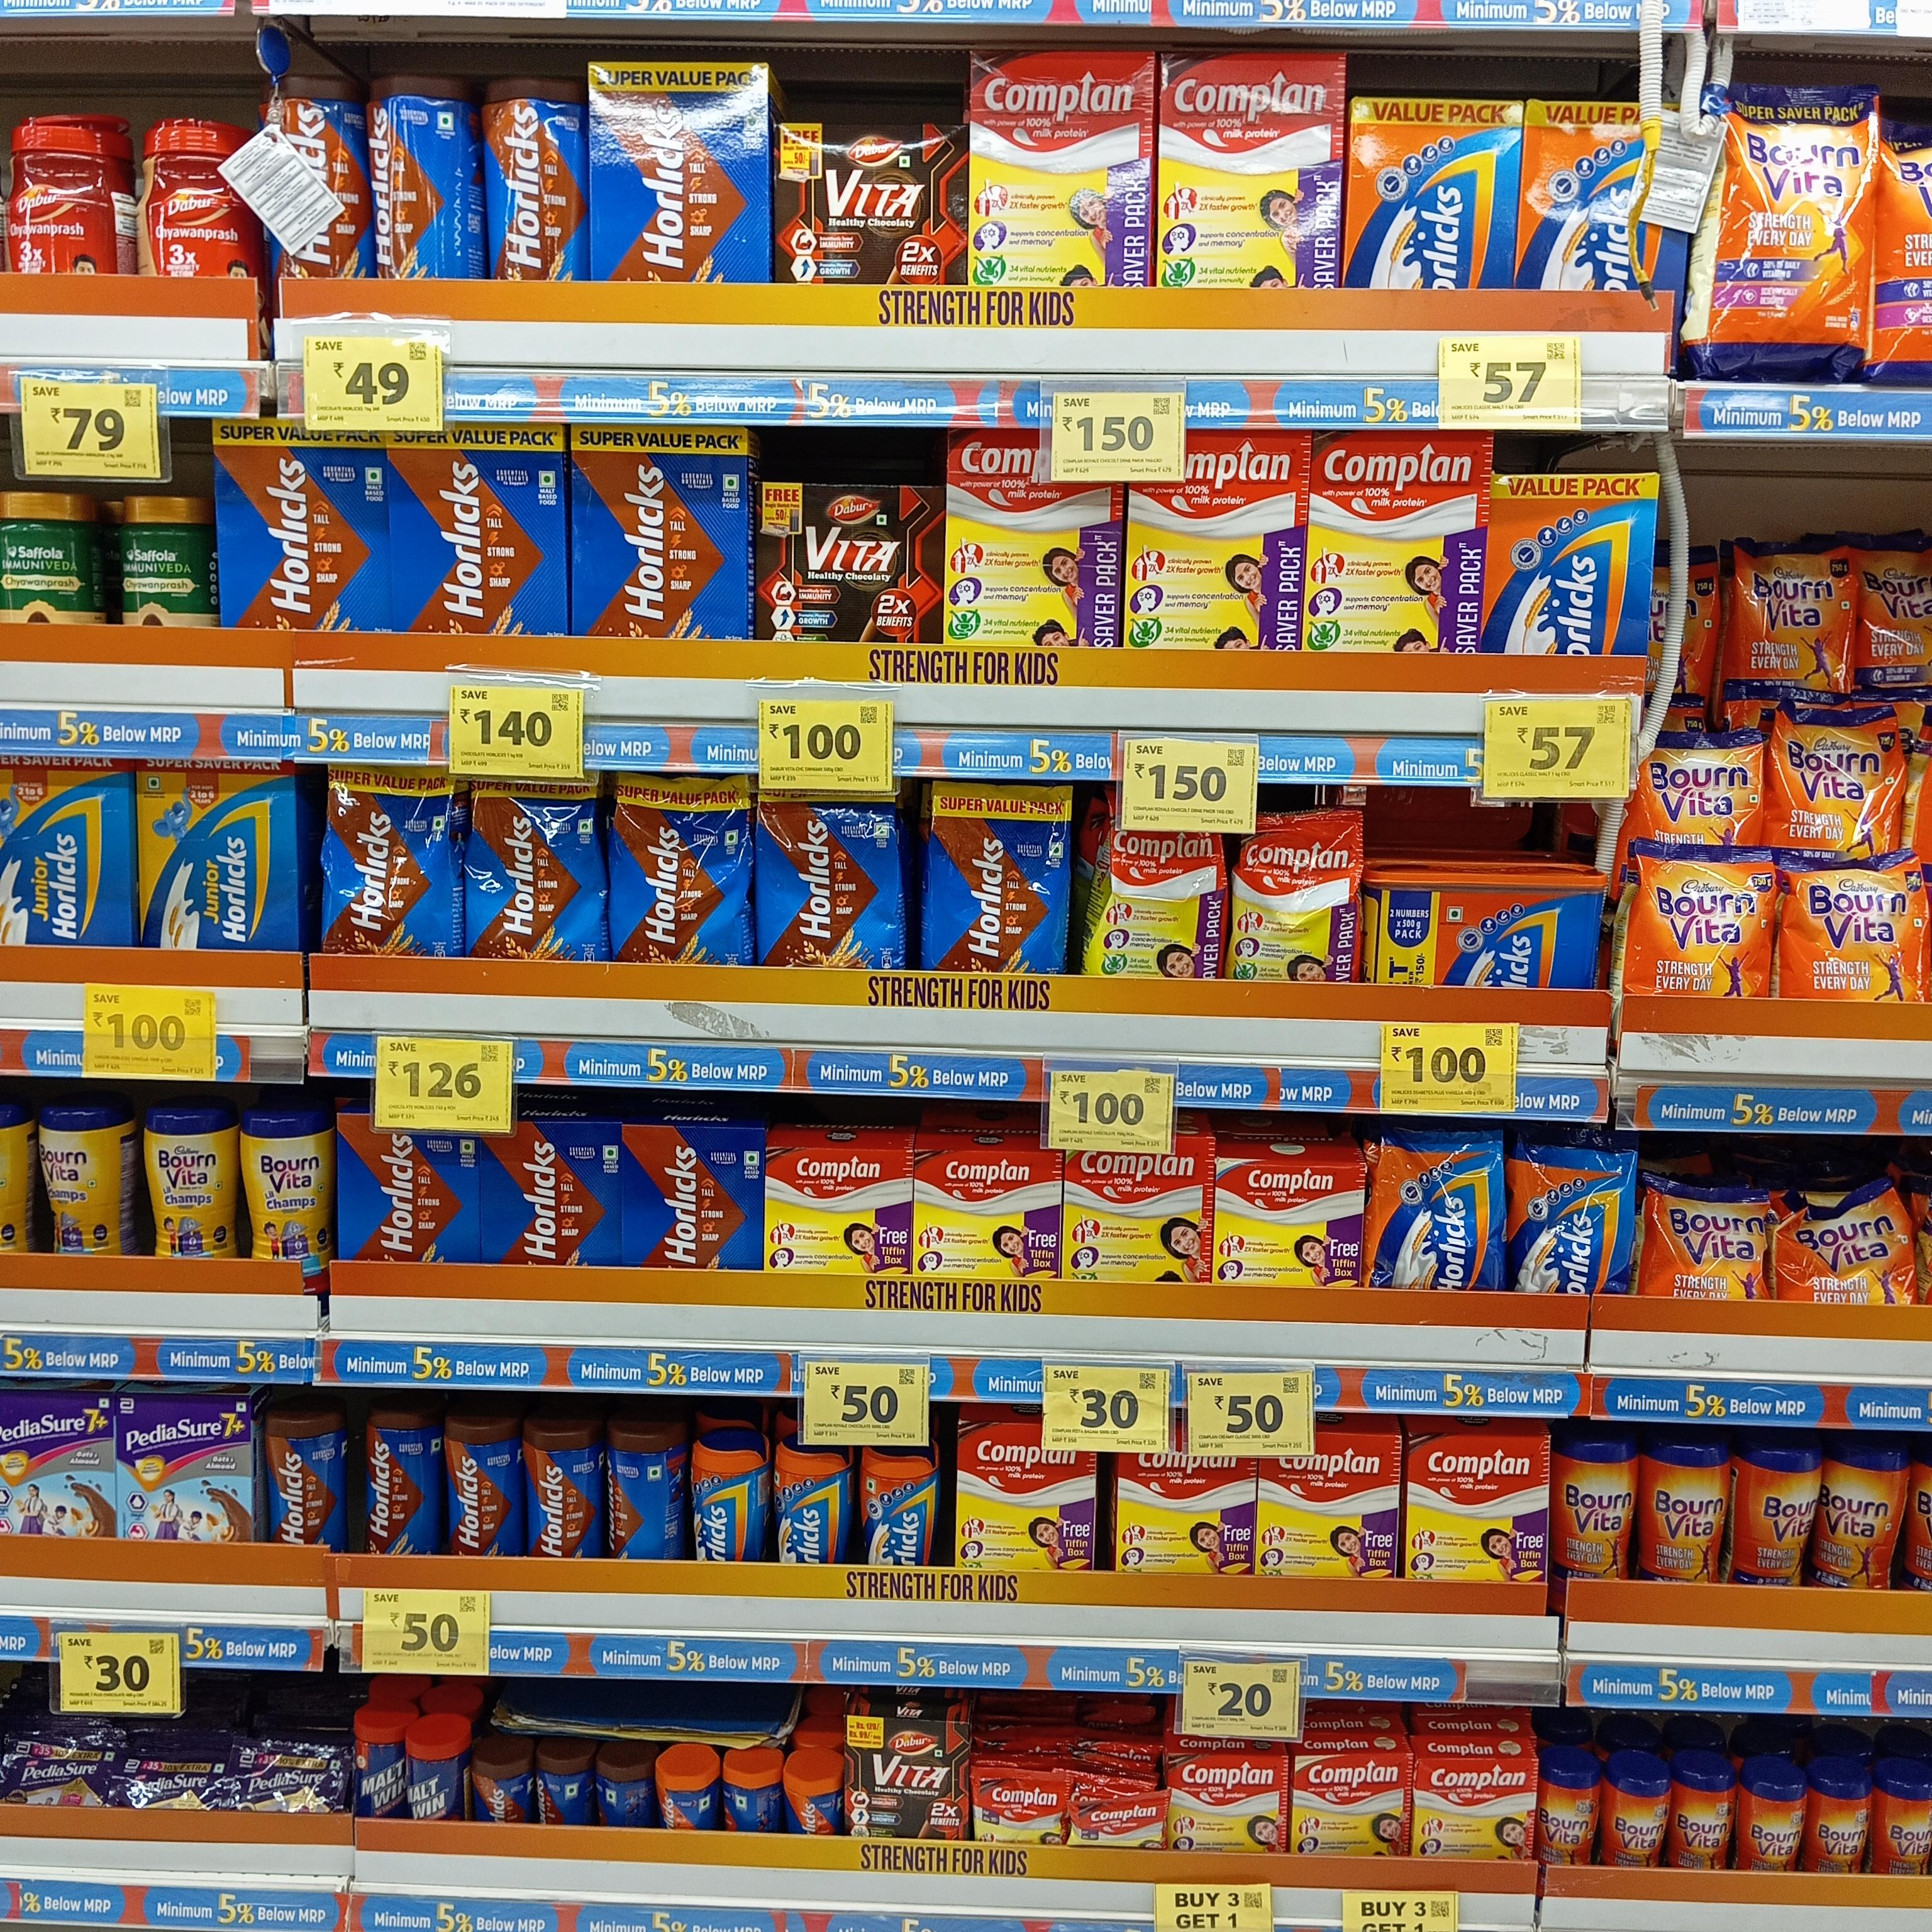BOURN_VITA_1_KG_POUCH: (1707, 90, 1867, 379)
BOURN_VITA_200_G_JAR: (1668, 1753, 1732, 1868), (1810, 1767, 1868, 1874), (1543, 1757, 1598, 1865), (1744, 1771, 1801, 1872), (1606, 1764, 1660, 1861), (1882, 1773, 1930, 1877)
BOURN_VITA_500_G_JAR: (1645, 1440, 1723, 1587), (1817, 1438, 1891, 1591), (1560, 1435, 1635, 1585), (1736, 1445, 1806, 1583)
BOURN_VITA_500_G_POUCH: (1647, 1177, 1769, 1304), (1787, 1192, 1932, 1284)
BOURN_VITA_750_G_POUCH: (1631, 876, 1771, 1005), (1737, 543, 1851, 701), (1796, 874, 1927, 1000), (1778, 722, 1893, 856), (1660, 740, 1764, 872)
BOURN_VITA_CHAMPS_500_G_JAR: (32, 1106, 108, 1253), (249, 1116, 326, 1260), (149, 1111, 225, 1251)
COMPLAN_CHOCOLATE_1_KG_PACK: (970, 50, 1143, 285), (1157, 57, 1334, 285), (1306, 433, 1476, 651), (947, 433, 1116, 648)
COMPLAN_CHOCOLATE_200_GMS_PACK: (1164, 1753, 1281, 1856)
COMPLAN_CHOCOLATE_500_GMS_PACK: (1403, 1431, 1543, 1582), (954, 1422, 1093, 1571), (761, 1146, 906, 1274), (913, 1146, 1056, 1274)
COMPLAN_CREAMY_CLASSIC_500_G_PACK: (1214, 1155, 1361, 1290)
COMPLAN_KESAR_BADAM_200_GMS_PACK: (1293, 1752, 1403, 1859)
COMPLAN_PISTA_BADAM_500_GMS_PACK: (1072, 1145, 1210, 1288)
COMPLAN_RC_POUCH_700_GMS_12: (1237, 814, 1355, 985), (1106, 832, 1217, 978)
HORLICK_CHOCOLATE_1_KG_JAR: (485, 78, 577, 281), (368, 67, 453, 281), (276, 80, 364, 280)
HORLICK_CHOCOLATE_1_KG_PACK: (596, 69, 770, 276), (393, 428, 559, 637), (223, 425, 384, 639), (577, 426, 740, 637)
HORLICK_CHOCOLATE_500_G_JAR: (520, 1415, 593, 1562), (359, 1412, 428, 1557), (446, 1414, 513, 1557), (262, 1419, 336, 1541), (600, 1430, 651, 1557)
HORLICK_CHOCOLATE_500_G_PACK: (623, 1125, 755, 1272), (343, 1115, 469, 1267), (487, 1120, 610, 1272)
HORLICK_CHOCOLATE_750_G_POUCH: (927, 780, 1067, 980), (464, 771, 596, 964), (766, 791, 902, 977), (609, 775, 738, 966), (315, 764, 444, 954)
HORLICK_CLASSIC_MALT_500_G_PACK: (1345, 97, 1509, 301), (1486, 472, 1654, 656), (1525, 101, 1688, 290), (778, 1431, 849, 1568), (692, 1435, 766, 1564), (862, 1447, 936, 1569)
HORLICK_CLASSIC_MALT_750_G_POUCH: (1371, 1132, 1497, 1290), (1513, 1139, 1631, 1293)
HORLICK_MALT_1_KG_CONTAINER: (1380, 883, 1599, 991)
PEDIASURE_7_PLUS_CHOCOLATE_400_G_PACK: (119, 1399, 248, 1539), (0, 1392, 110, 1537)
